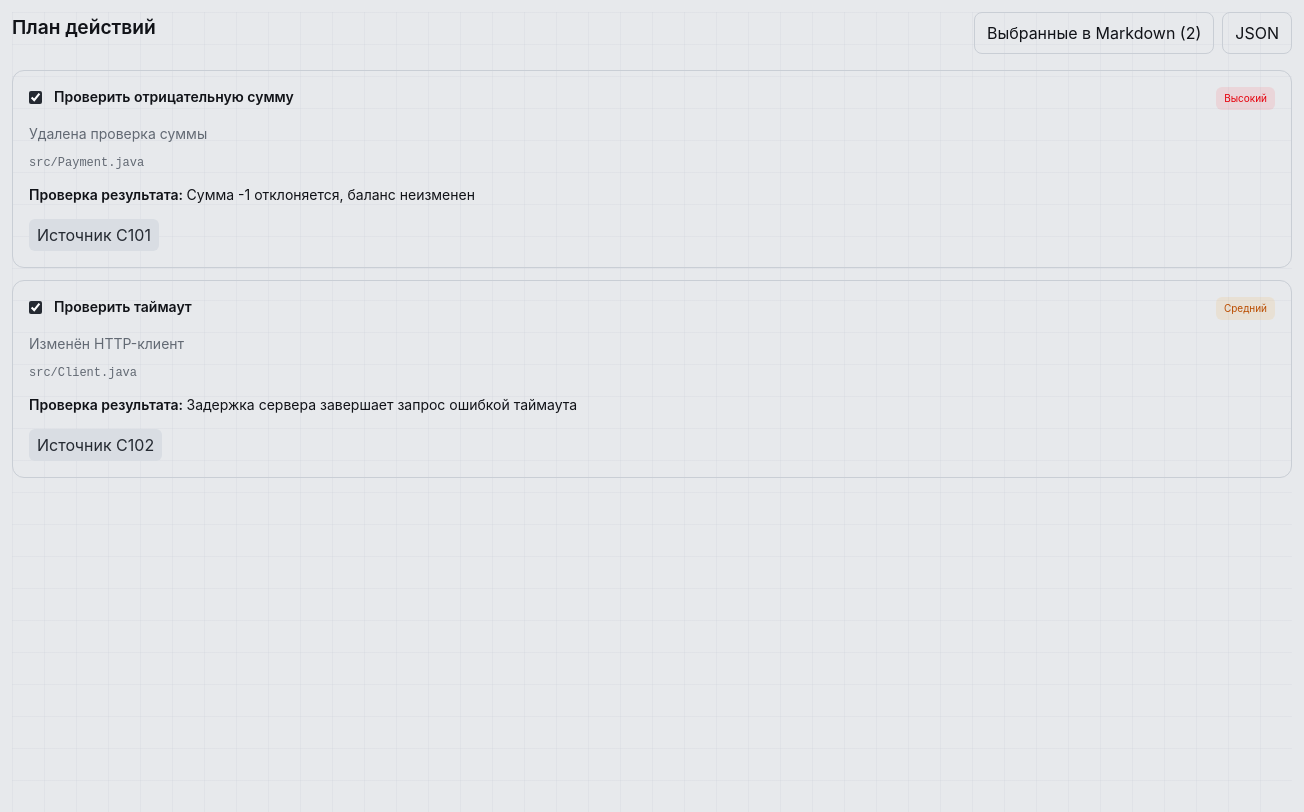
Test: action and evidence controls › lets the user select tasks and disables export when none are selected
The image size is (1304, 812).
Click the checkbox labelled "Проверить таймаут Средний" at (36, 308), box 29,301 -> 42,314
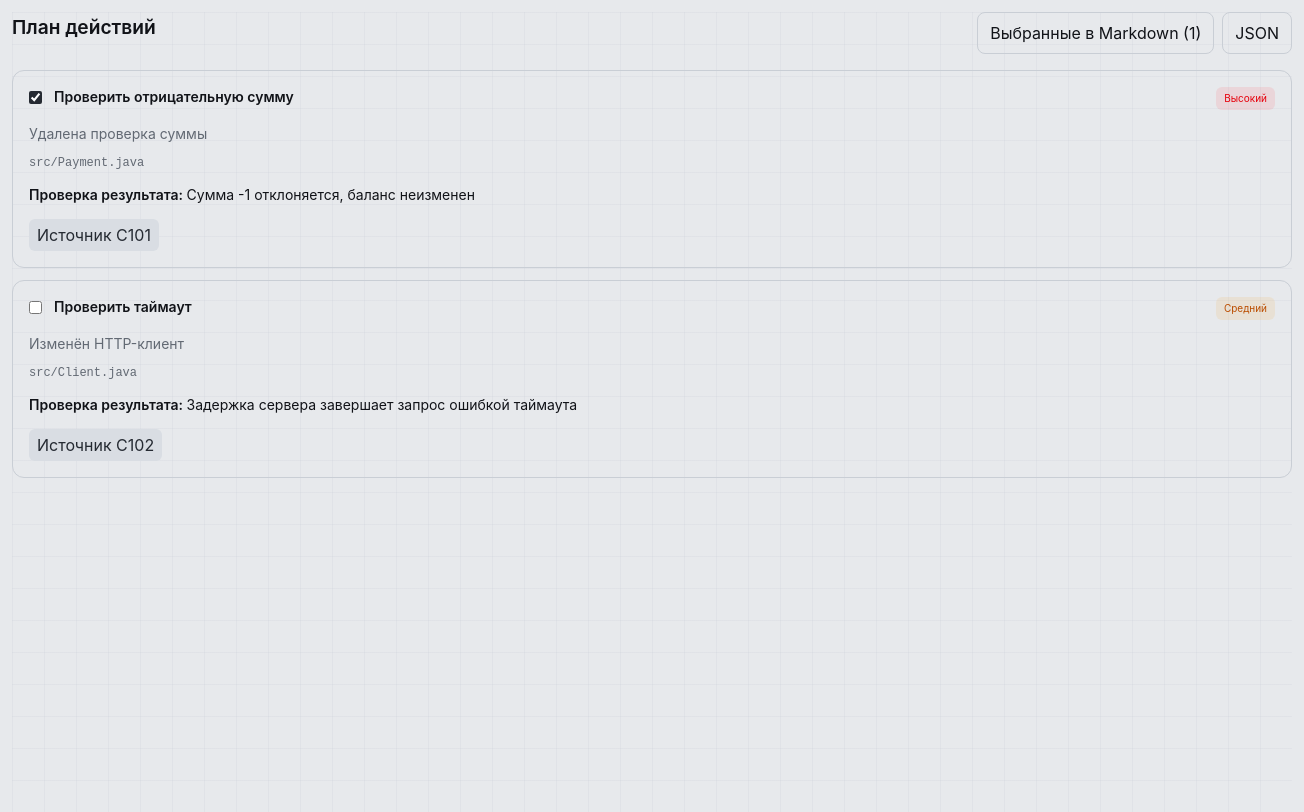
Check: the button "Выбранные в Markdown (1)" is enabled, box 977,12 -> 1214,54
Click the checkbox labelled "Проверить отрицательную сумму Высокий" at (36, 98), box 29,91 -> 42,104
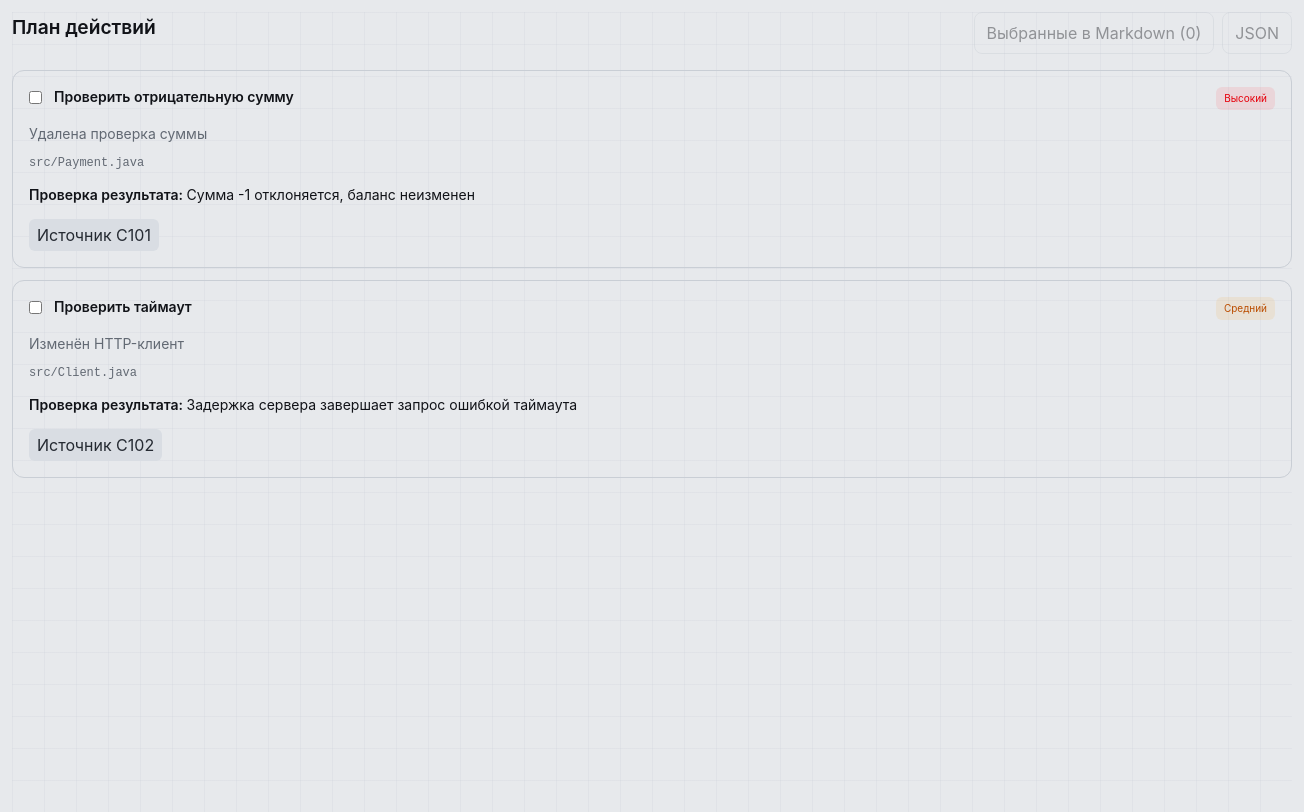
Check: the button "Выбранные в Markdown (0)" is disabled, box 974,12 -> 1214,54
Check: the button "JSON" is disabled, box 1222,12 -> 1292,54
